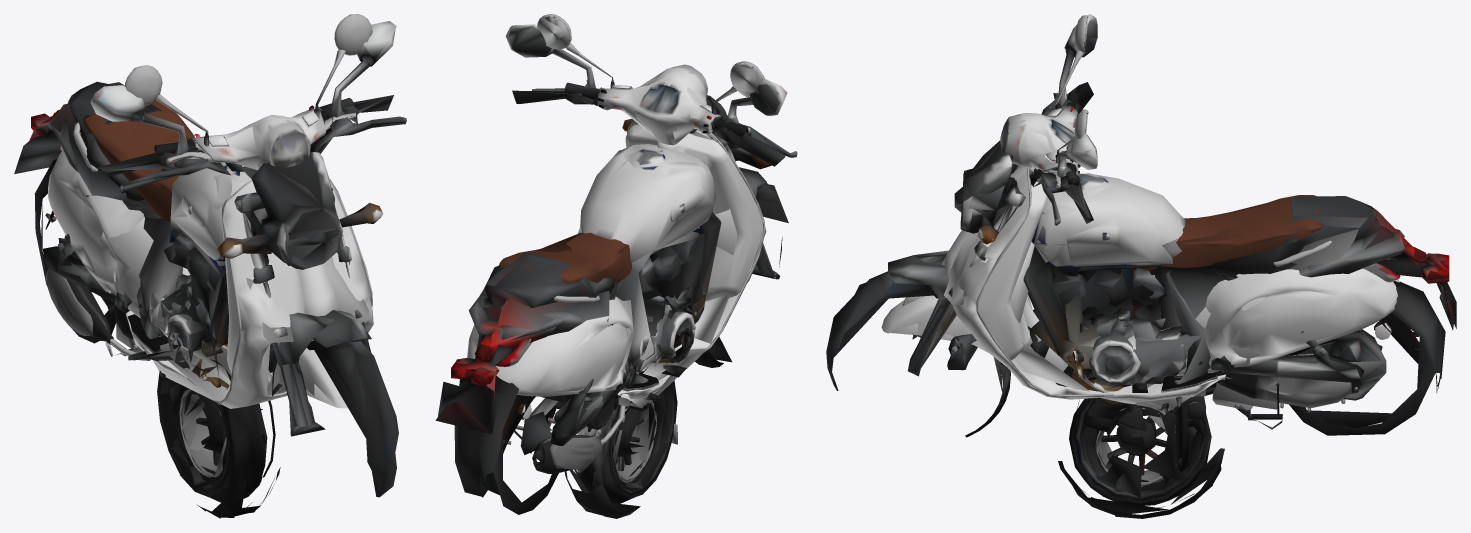
The model's file is two-wheelers.glb.
3 views of the same model, side by side, from view 1: azimuth 30°, elevation 25°; view 2: azimuth 150°, elevation 25°; view 3: azimuth 270°, elevation 25° (orthographic). The views are drawn at different scales.
Parts seen in each view (by area): view 1: bike, moped, bike-far, moped-far, moped-wheel, bike-wheel, bike-wheel-far, moped-wheel-far; view 2: bike, moped, bike-far, moped-far, bike-wheel, moped-wheel, bike-wheel-far, moped-wheel-far; view 3: bike, moped, bike-far, moped-far, bike-wheel, moped-wheel, bike-wheel-far, moped-wheel-far.
Part boxes in pixels (left/top/right/bottom): bike: left=14, top=21, right=406, bottom=497; moped: left=45, top=14, right=373, bottom=408; bike-far: left=29, top=82, right=392, bottom=495; moped-far: left=52, top=98, right=369, bottom=407; moped-wheel: left=170, top=383, right=267, bottom=502; bike-wheel: left=157, top=372, right=280, bottom=518; bike-wheel-far: left=160, top=376, right=274, bottom=511; moped-wheel-far: left=181, top=390, right=265, bottom=477; bike: left=438, top=24, right=797, bottom=514; moped: left=467, top=14, right=766, bottom=473; bike-far: left=435, top=82, right=788, bottom=509; moped-far: left=503, top=18, right=758, bottom=450; bike-wheel: left=564, top=380, right=677, bottom=518; moped-wheel: left=577, top=391, right=677, bottom=503; bike-wheel-far: left=570, top=381, right=674, bottom=511; moped-wheel-far: left=611, top=401, right=656, bottom=481; bike: left=826, top=14, right=1456, bottom=471; moped: left=881, top=15, right=1419, bottom=437; bike-far: left=834, top=85, right=1456, bottom=432; moped-far: left=890, top=65, right=1417, bottom=410; bike-wheel: left=1058, top=398, right=1224, bottom=518; moped-wheel: left=1069, top=398, right=1211, bottom=505; bike-wheel-far: left=1068, top=398, right=1221, bottom=513; moped-wheel-far: left=1073, top=408, right=1175, bottom=485.
Bounding box in the file's own units: 1.04 × 1.62 × 2.05.
